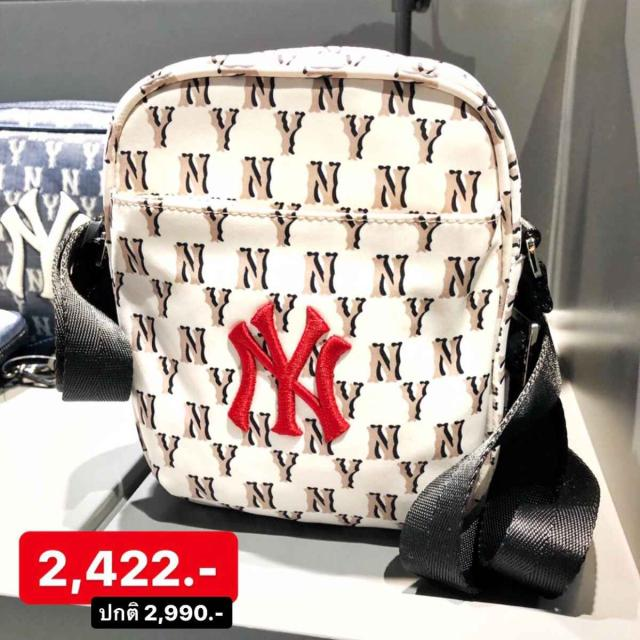Handbag: (100, 46, 513, 541)
